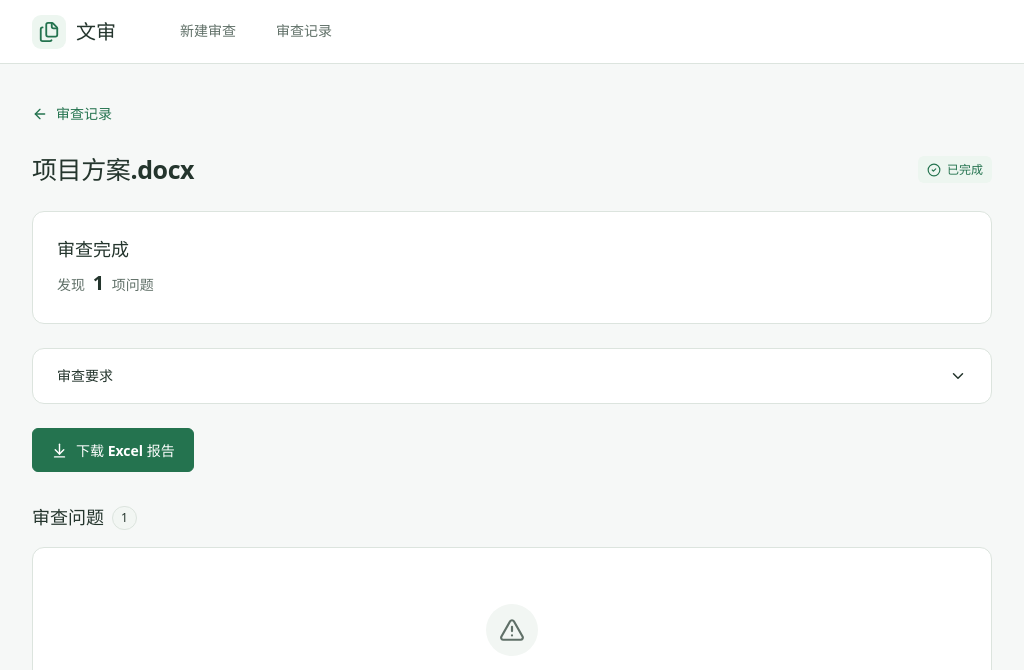
Test: review workspace › lets completed reviews add requirements from the collapsed area and reuse uploaded files
This screenshot has width=1024, height=670.
Expected: the text "审查要求" is shown, [57, 365, 113, 387]
Expected: the field labelled "审查要点" is not shown
Click the heading "审查要求" at (85, 376), box [57, 366, 967, 385]
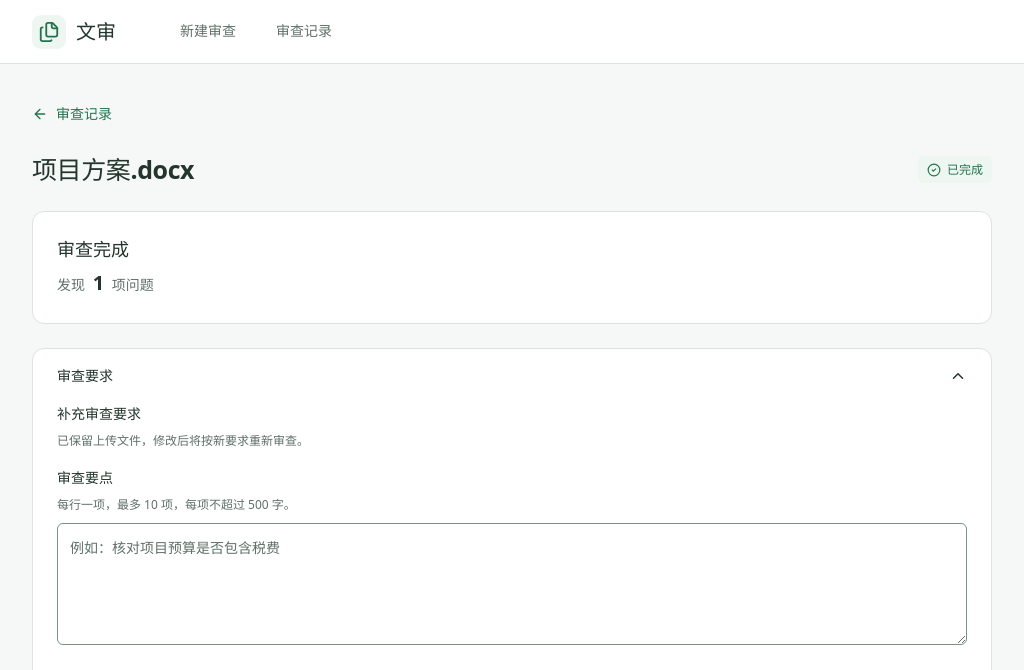
Type "核对税费" into the text box labelled "审查要点" at (512, 584), box [57, 523, 967, 645]
(page scrolled)
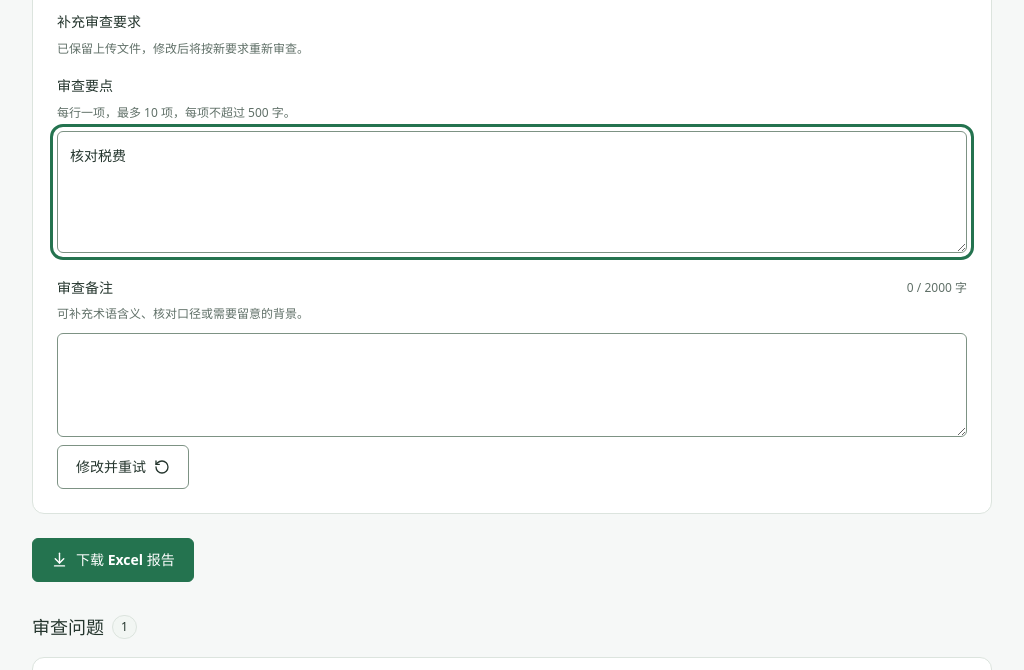
Type "使用含税口径" into the text box labelled "审查备注" at (512, 384), box [57, 332, 967, 436]
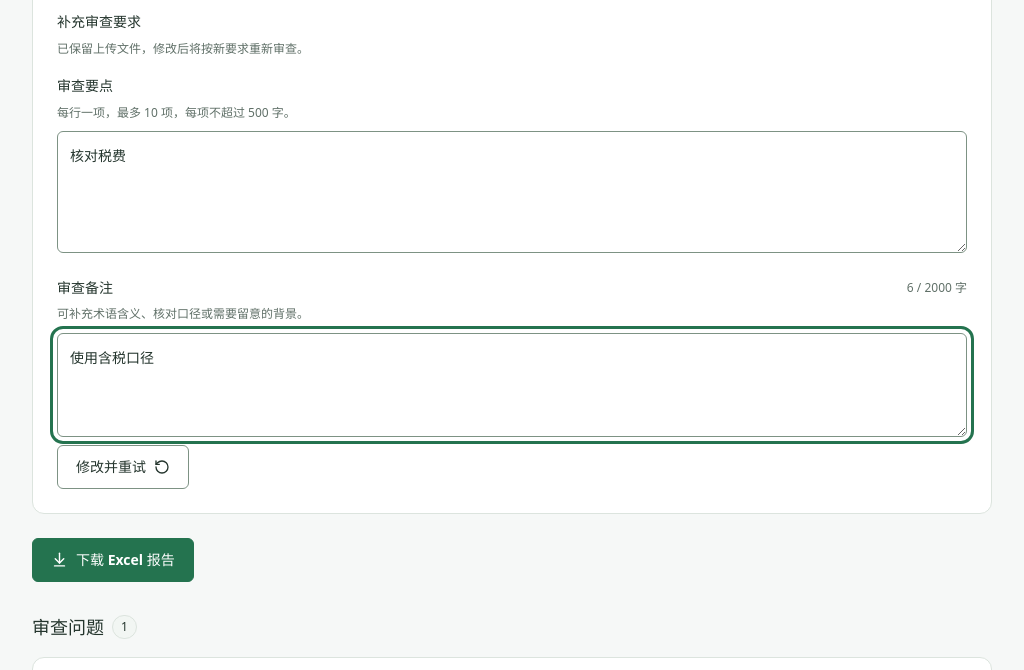
Click the button "修改并重试" at (123, 466), box [57, 444, 189, 488]
(page scrolled)
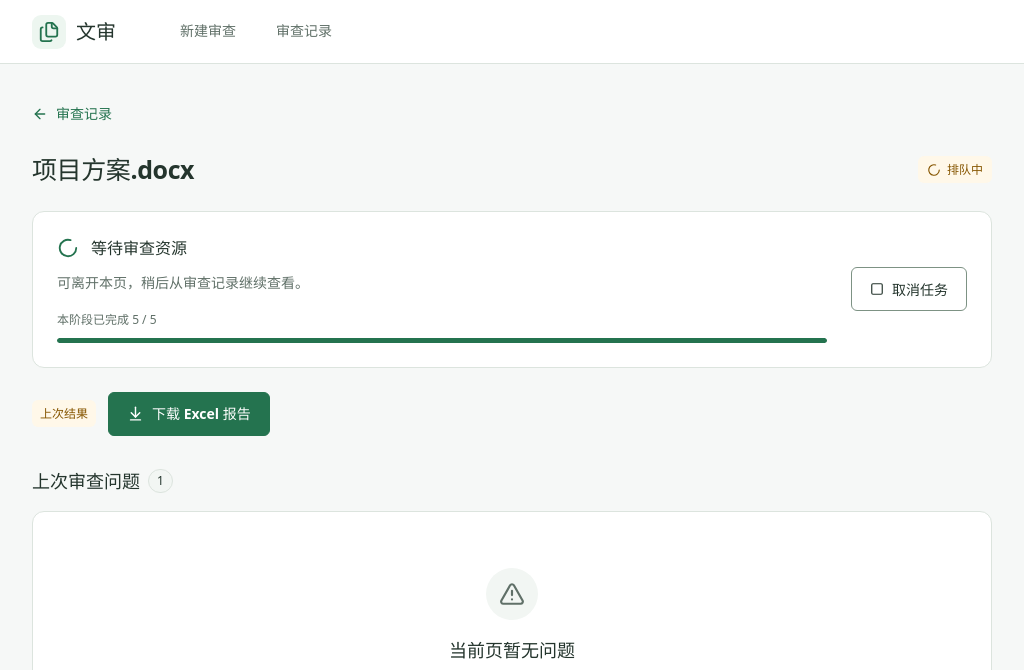
Expected: the heading "等待审查资源" is shown, [91, 236, 187, 260]
